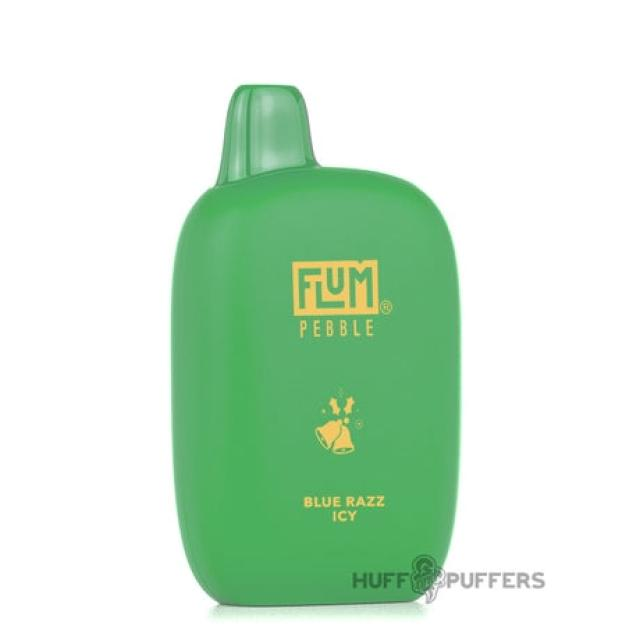Vapes: (168, 82, 462, 607)
